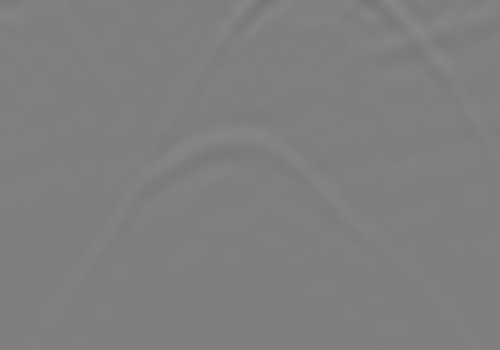hyperbola: (79, 120, 437, 317)
